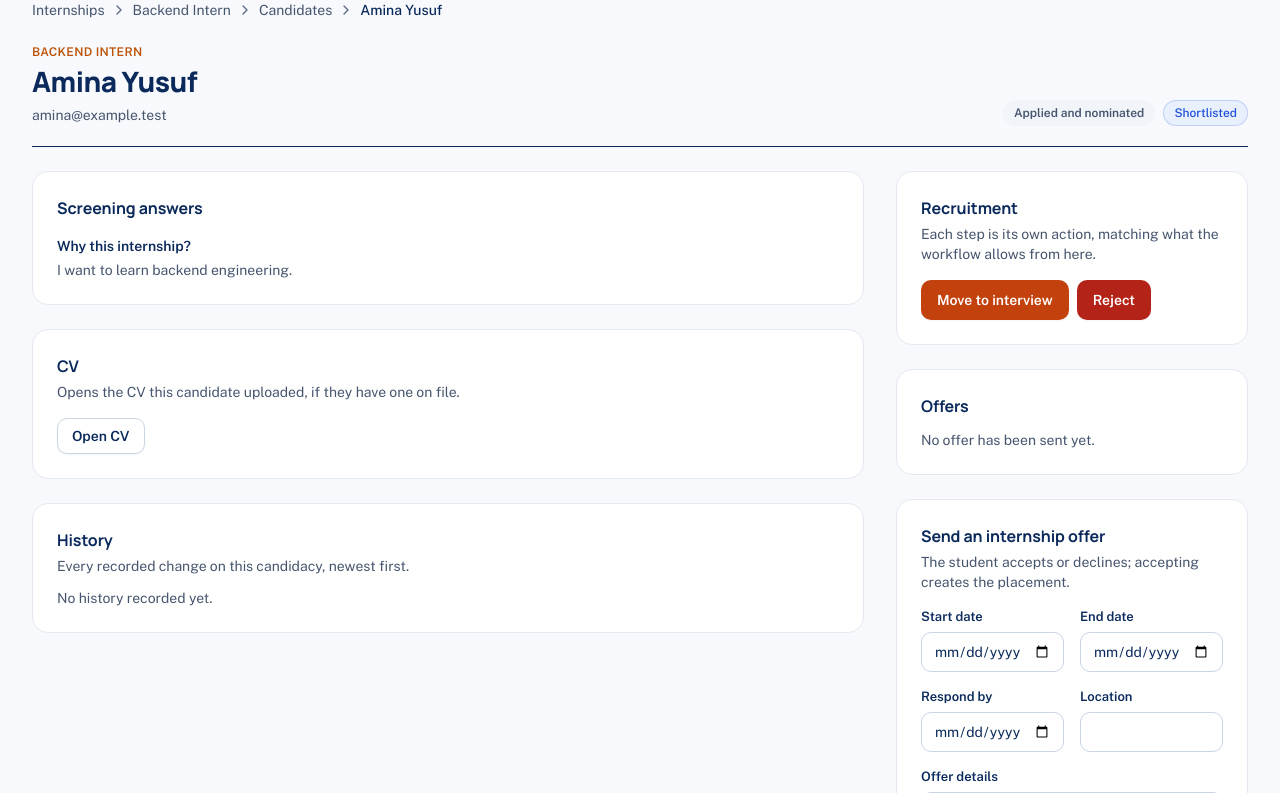
Test case: CandidateDetailPage › renders a backend conflict from its error code
Expected: the heading "Amina Yusuf" is shown, left=32, top=64, right=197, bottom=98
Type "2027-03-01" into the date field labelled "Start date". click: (992, 652)
box: left=921, top=632, right=1064, bottom=672
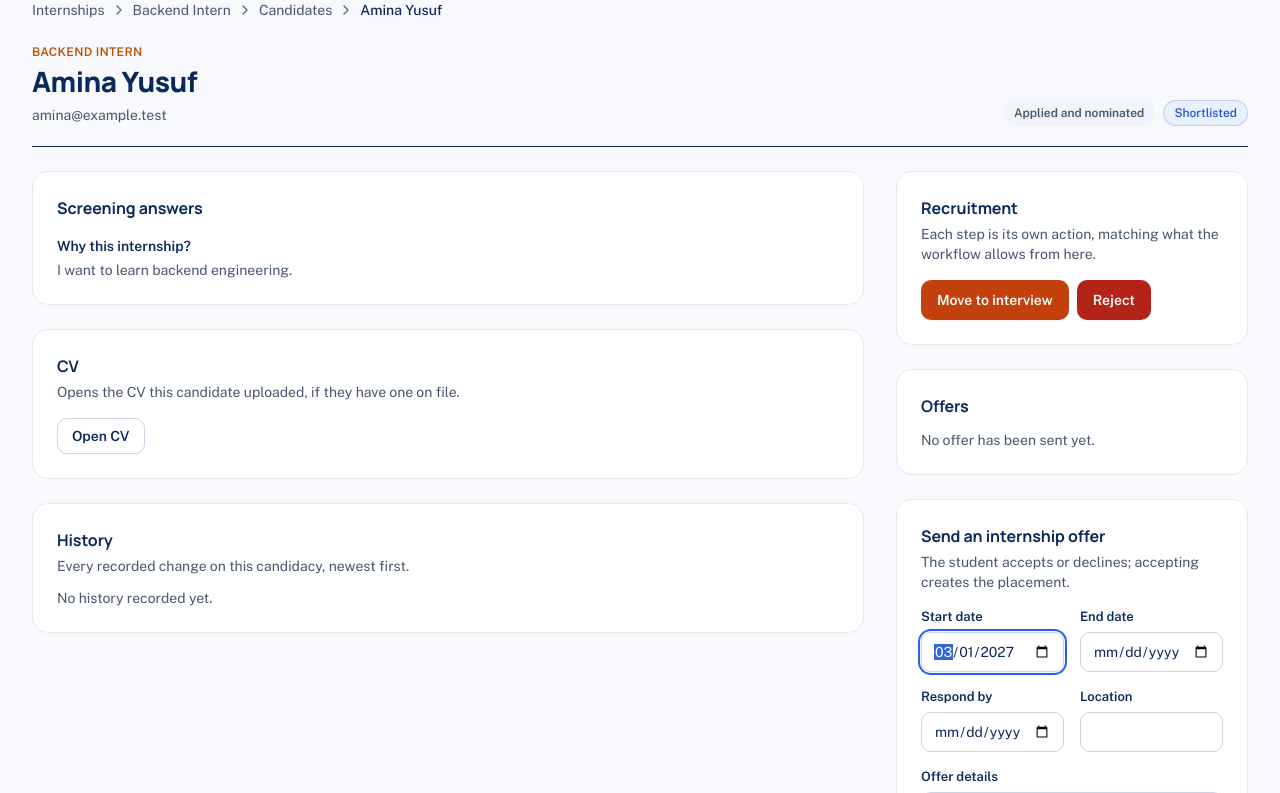
Type "2027-06-01" into the date field labelled "End date". click: (1152, 652)
box: left=1080, top=632, right=1223, bottom=672
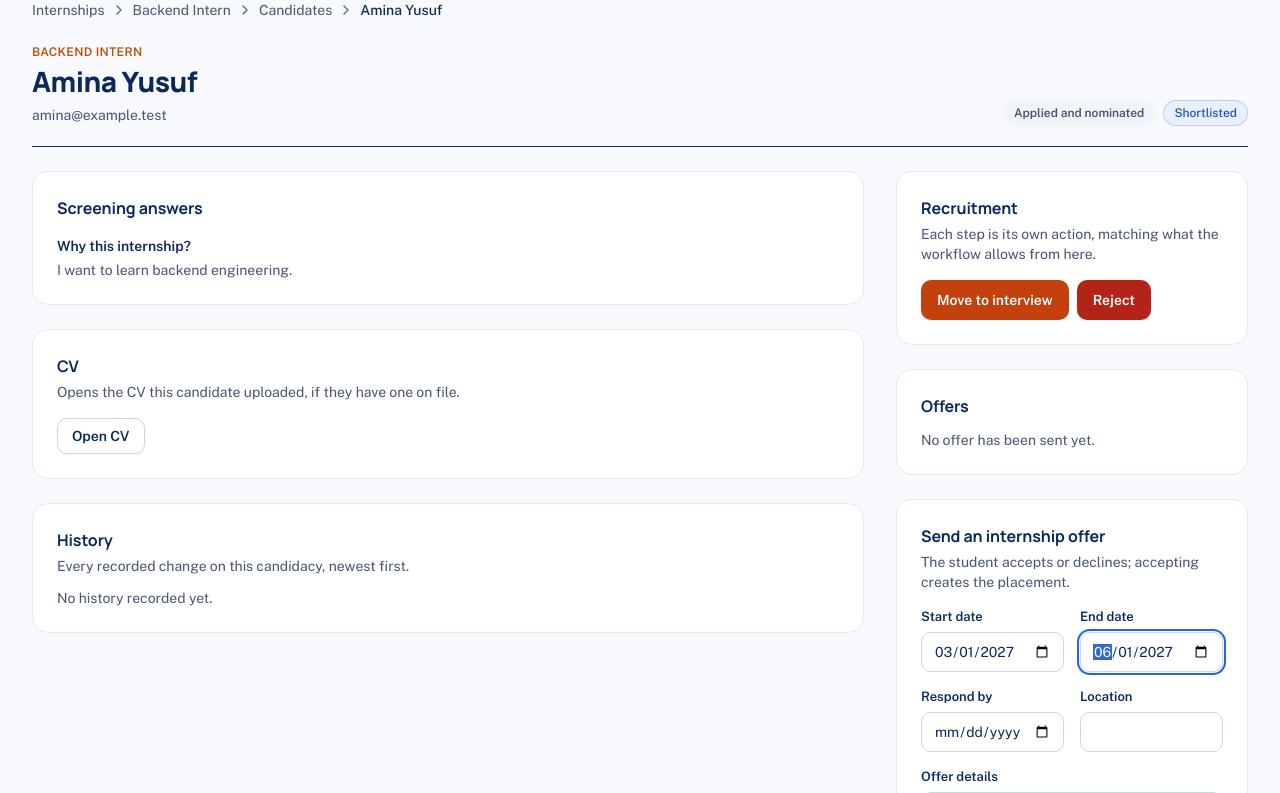
Type "2027-02-15" into the date field labelled "Respond by". click: (992, 732)
box: left=921, top=712, right=1064, bottom=752
(page scrolled)
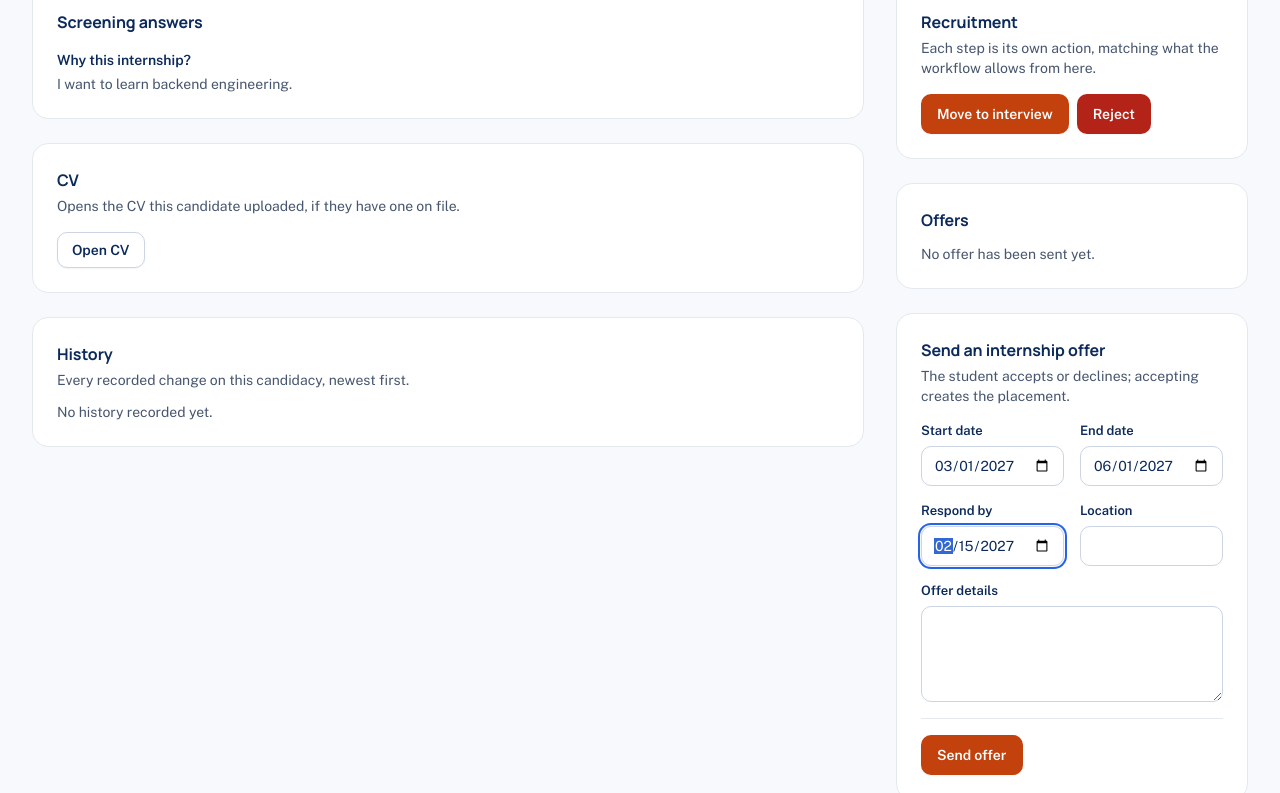
Click the button "Send offer". click: (972, 755)
box: left=921, top=735, right=1022, bottom=775
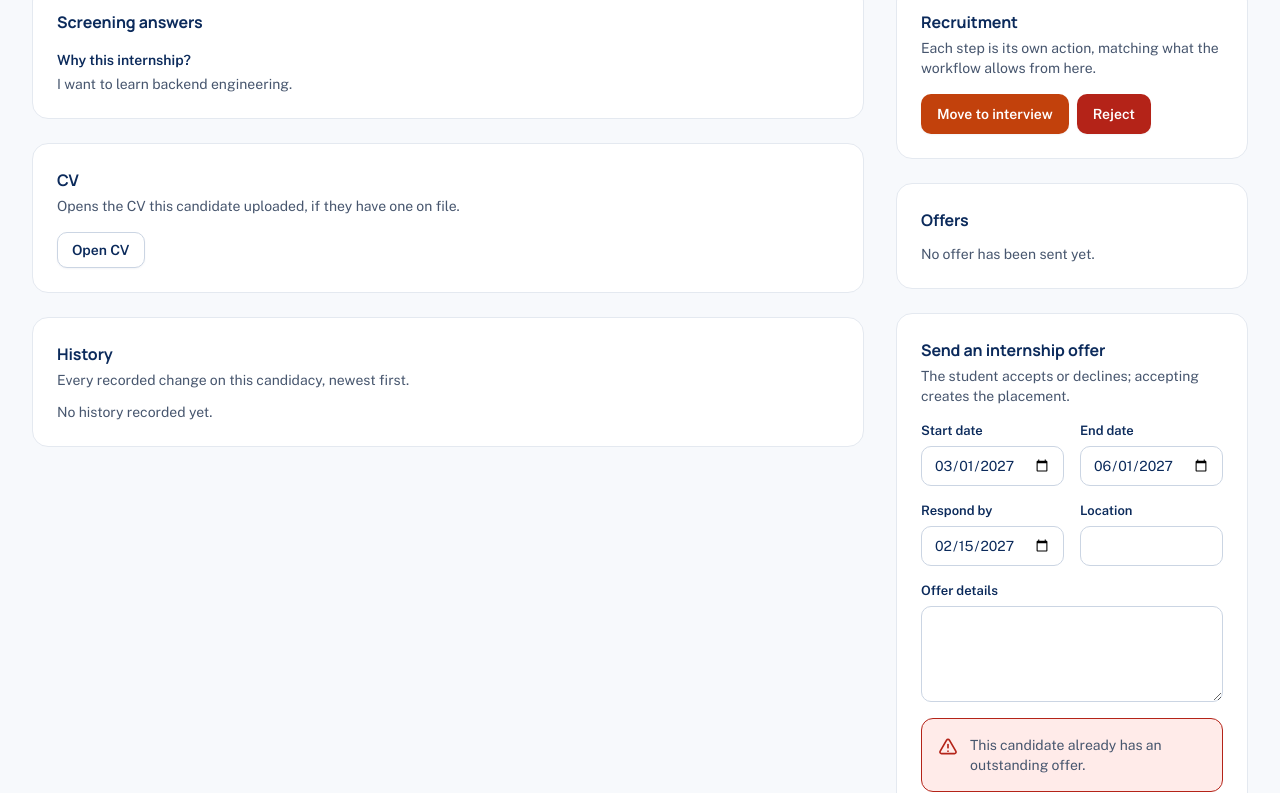
Expected: the message shows "already has an outstanding offer", left=970, top=737, right=1162, bottom=773
